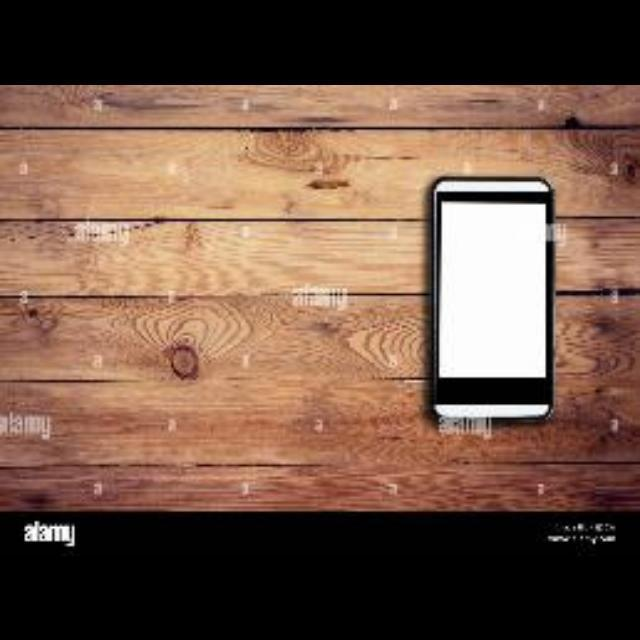PhoneUse: (431, 175, 557, 425)
